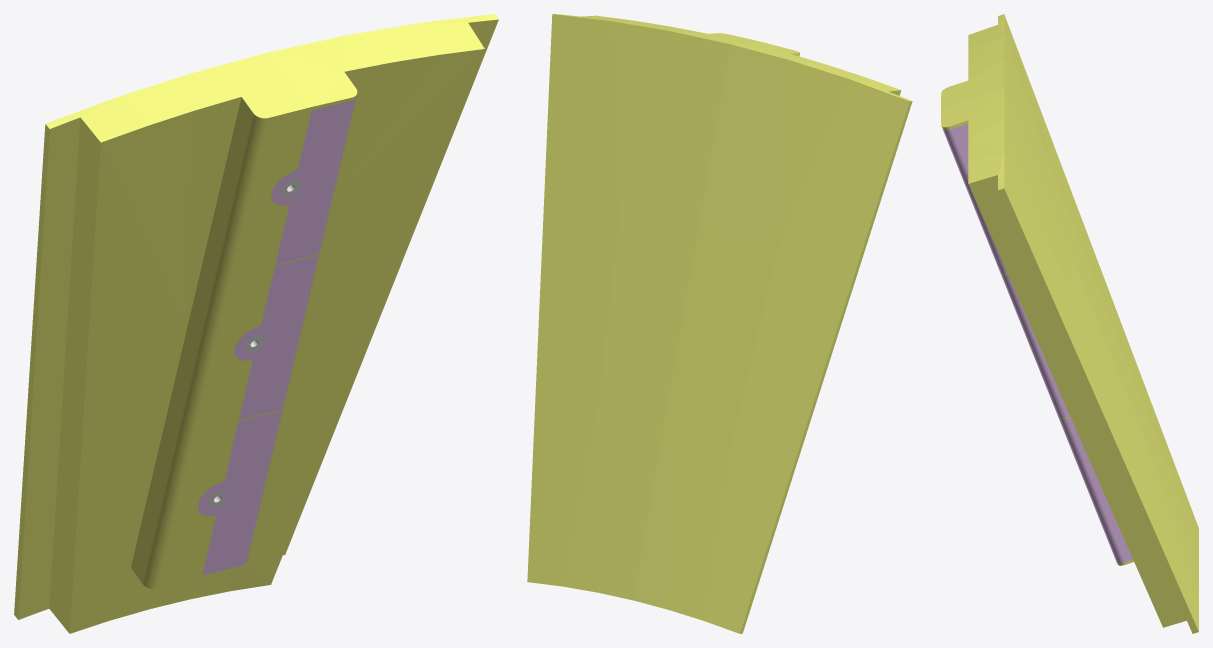
Rendered from mining_03_composite_end_liner.glb.
The picture shows the model from 3 angles, left to right: view 1: azimuth 30°, elevation 25°; view 2: azimuth 150°, elevation 25°; view 3: azimuth 270°, elevation 25°; orthographic projection. The views are drawn at different scales.
Parts seen in each view (by area): view 1: Node2, Node3, Node1, Node5, Node4; view 2: Node2; view 3: Node2, Node3, Node1, Node5.
Part boxes in pixels (x1,y1,x2,y2): Node2: (14,14,498,633); Node3: (18,117,80,619); Node1: (198,97,356,575); Node5: (271,101,350,410); Node4: (208,179,300,507); Node2: (527,14,912,633); Node2: (941,14,1198,633); Node3: (968,175,1186,627); Node1: (943,123,1132,563); Node5: (1001,274,1066,418).
Size of the model in its own units: 0.7468 by 1 by 0.4666.
